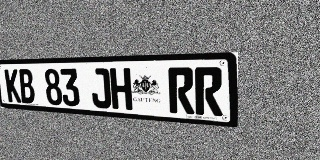3: (60, 68, 80, 107)
8: (44, 69, 63, 105)
B: (18, 69, 36, 104)
H: (110, 68, 133, 110)
J: (90, 68, 112, 109)
K: (4, 69, 21, 103)
R: (195, 67, 223, 116), (168, 67, 195, 114)
